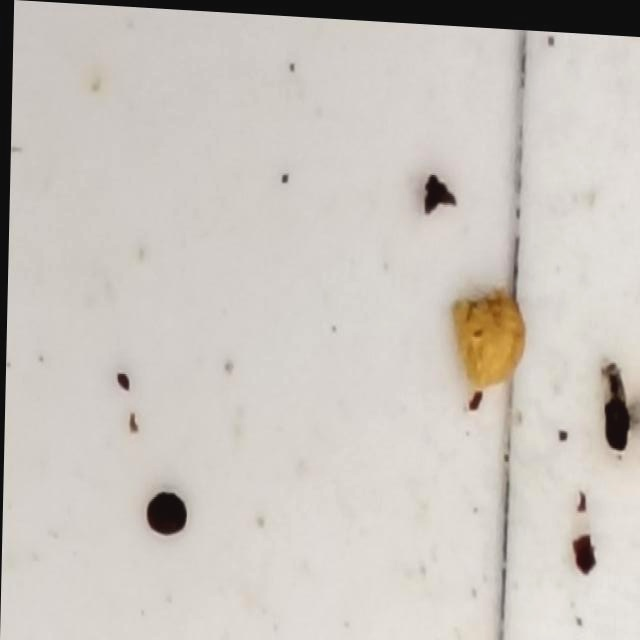varroa: (147, 482, 194, 535)
